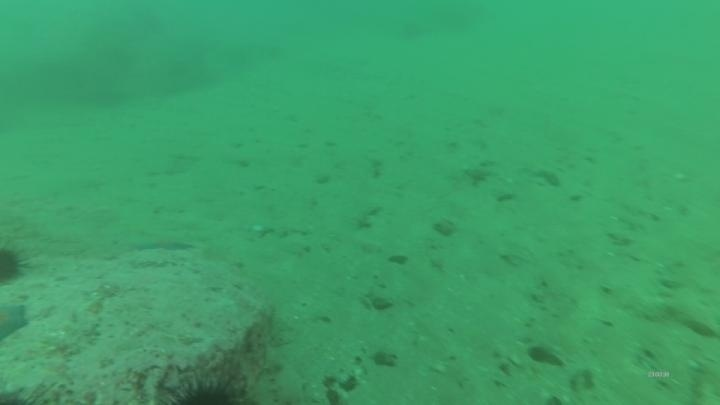echinus: (159, 368, 250, 405), (1, 242, 29, 286)
starfish: (130, 229, 196, 255), (1, 297, 32, 342)
